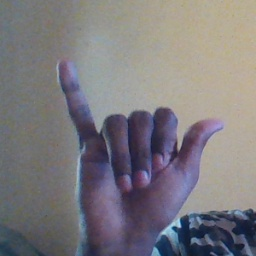J: (54, 57, 226, 236)
